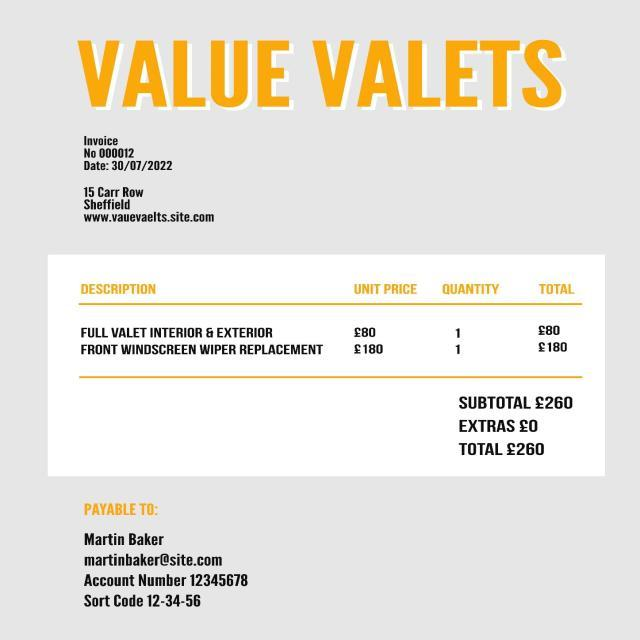ROI: (48, 256, 610, 380), (71, 33, 578, 122), (74, 496, 264, 624), (448, 384, 588, 464), (79, 186, 230, 232), (75, 135, 186, 180)
